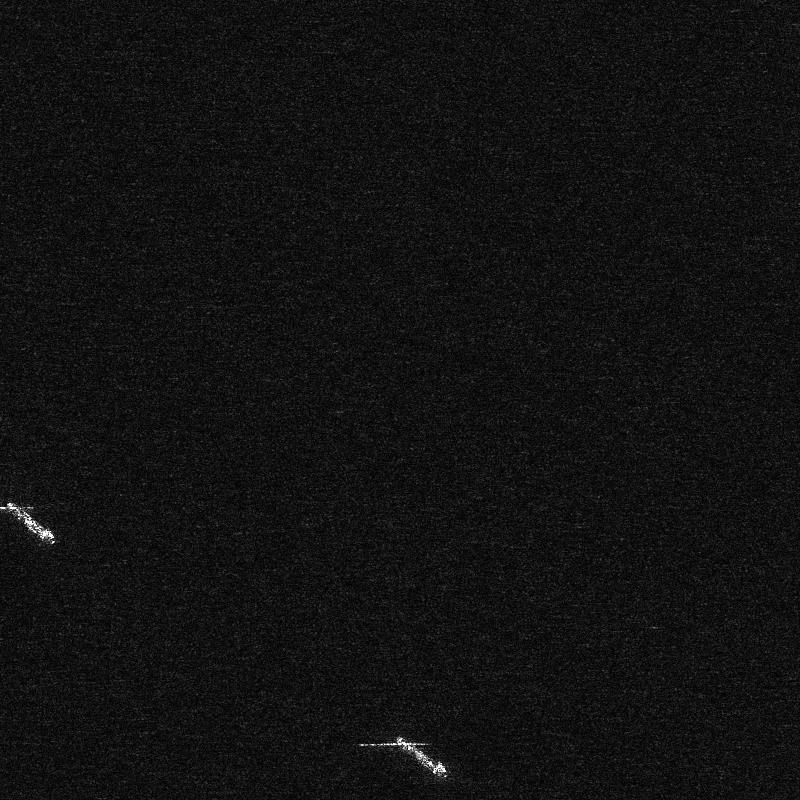ship: (394, 736, 448, 777), (5, 502, 56, 545)
